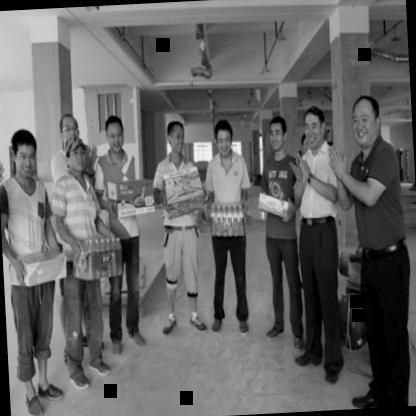head: (348, 89, 384, 152), (8, 124, 41, 186), (64, 134, 91, 178), (101, 113, 128, 156), (302, 105, 328, 149), (211, 116, 236, 161), (264, 110, 289, 154), (162, 116, 186, 158), (56, 110, 80, 148)
